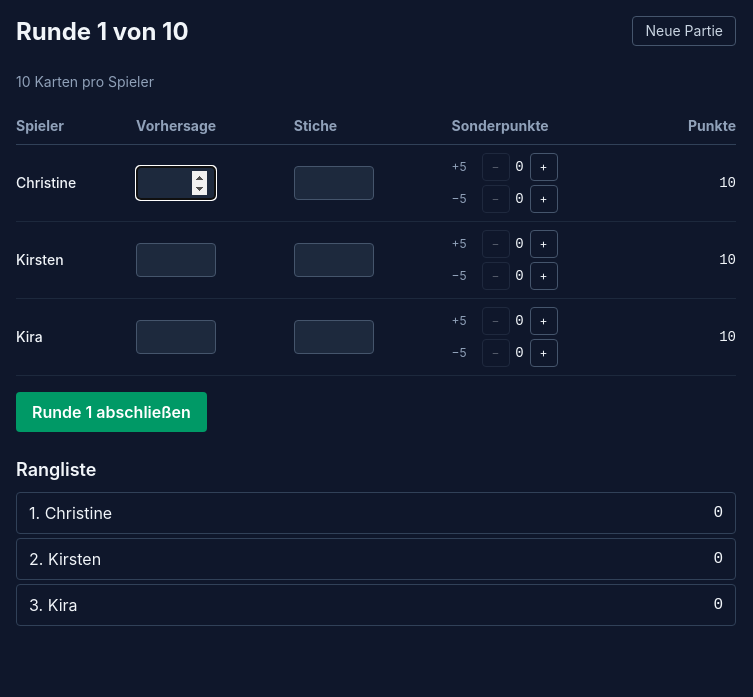
Test: RoundEntryScreen › shows a non-blocking warning once every player has a tricks value but the sum is wrong
Step 1. Type "1" into the number field named "Stiche Christine" → (334, 183), box [294,166,374,200]
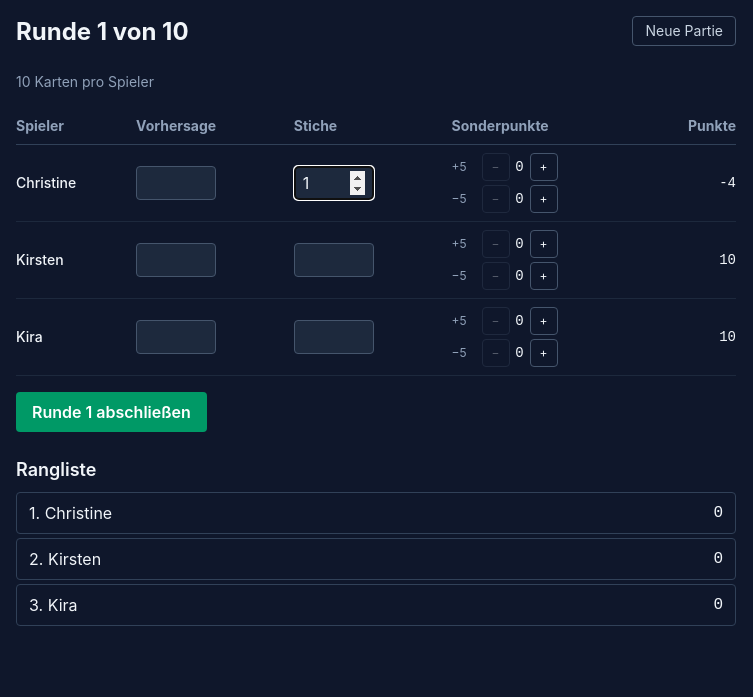
Step 2. Type "1" into the number field named "Stiche Kirsten" → (334, 260), box [294,243,374,277]
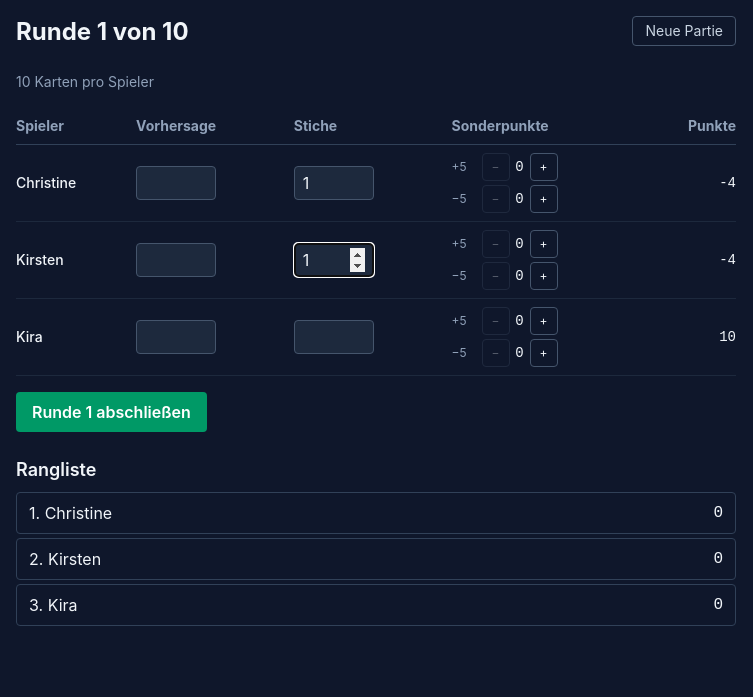
Step 3. Type "1" into the number field named "Stiche Kira" → (334, 337), box [294,320,374,354]
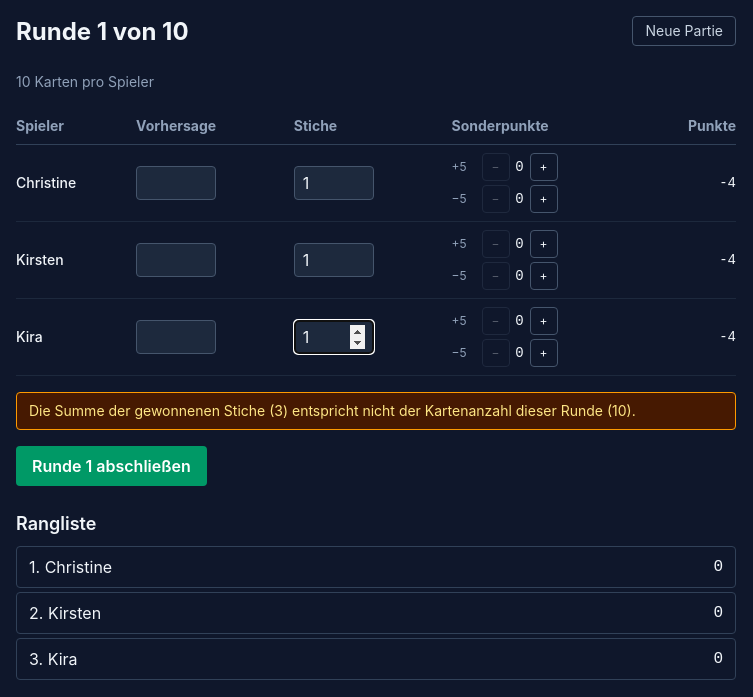
Now the message shows "entspricht nicht der Kartenanzahl", box [29,402,636,419]
